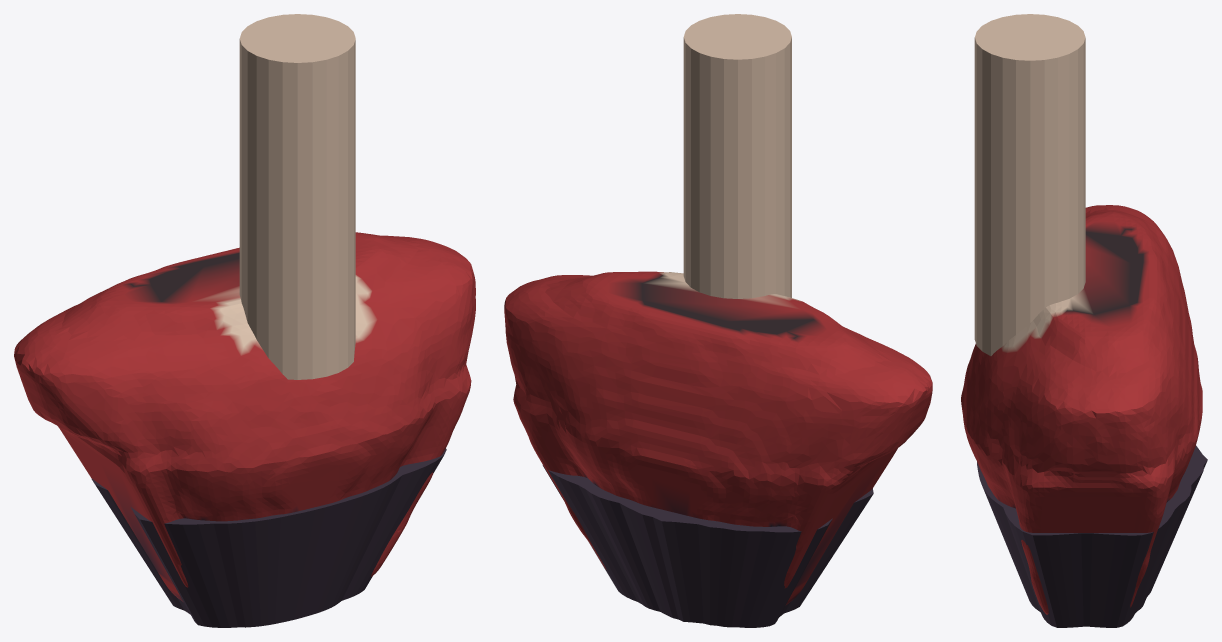
The model's file is torso.glb.
The picture shows the model from 3 angles, left to right: view 1: azimuth 30°, elevation 25°; view 2: azimuth 150°, elevation 25°; view 3: azimuth 270°, elevation 25°; orthographic projection. The views are drawn at different scales.
Visible parts, largest first — view 1: geometry_0; view 2: geometry_0; view 3: geometry_0.
Boxes of the visible parts, left/top/right/bottom form: geometry_0: left=14, top=14, right=475, bottom=627; geometry_0: left=504, top=14, right=932, bottom=627; geometry_0: left=961, top=14, right=1207, bottom=627.
Size of the model in its own units: 0.6112 by 0.7668 by 0.3108.
